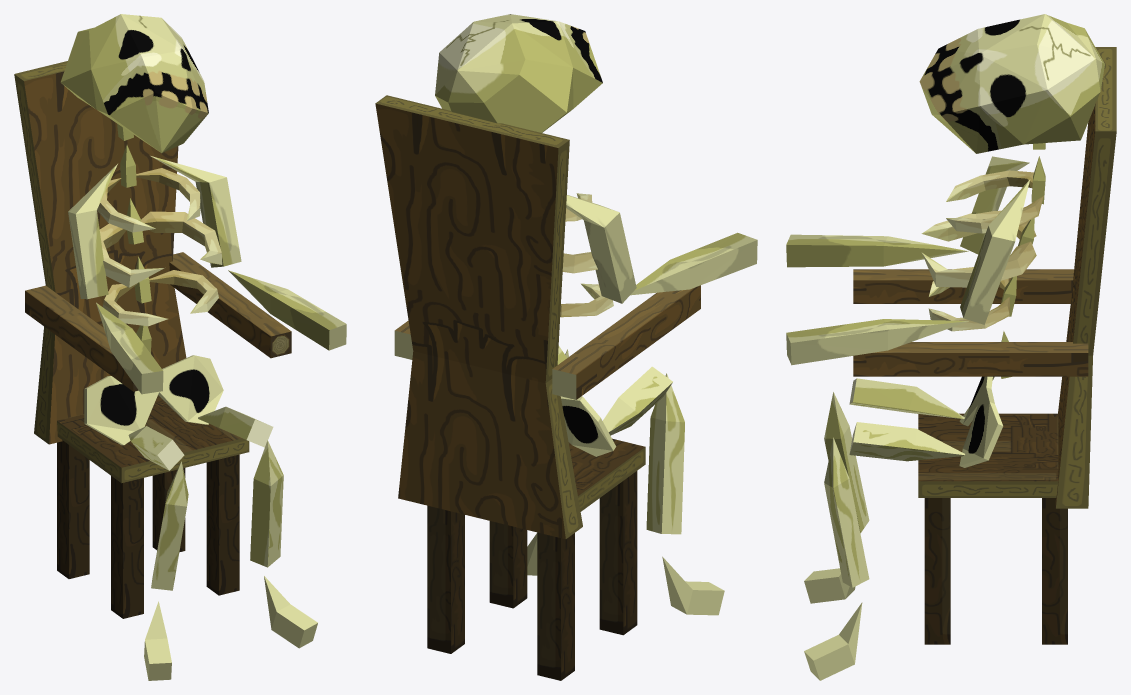
The model's file is DeadPerson-bin.fbx.
3 renders of one model, left to right at view 1: azimuth 30°, elevation 25°; view 2: azimuth 150°, elevation 25°; view 3: azimuth 270°, elevation 25°, orthographic. The views are drawn at different scales.
Visible parts, largest first — view 1: Sphere; view 2: Sphere; view 3: Sphere.
Part boxes in pixels (x1,y1,x2,y2): Sphere: (14,14,346,680); Sphere: (375,14,757,680); Sphere: (786,14,1116,680).
Size of the model in its own units: 321 by 856 by 413.
Materials: 1 (1 with a texture image).
